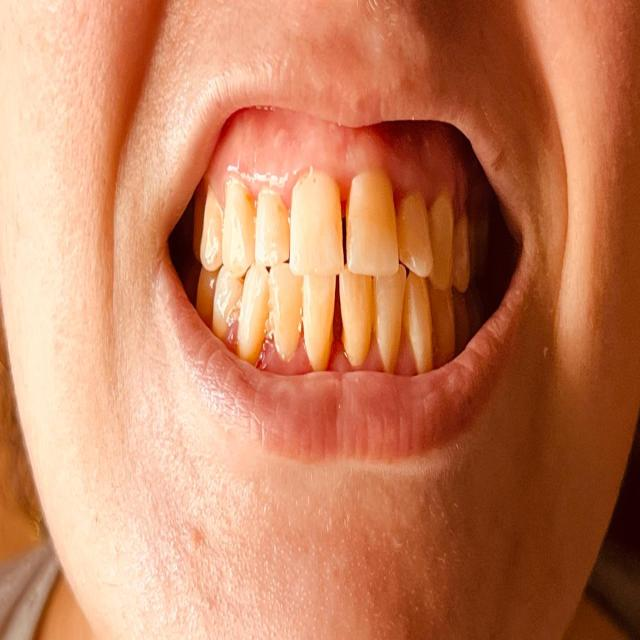tooth: (342, 269, 406, 368), (243, 266, 303, 359), (294, 178, 344, 277), (349, 174, 399, 271), (221, 180, 252, 270), (306, 274, 335, 369), (404, 271, 430, 374), (256, 194, 292, 261)
